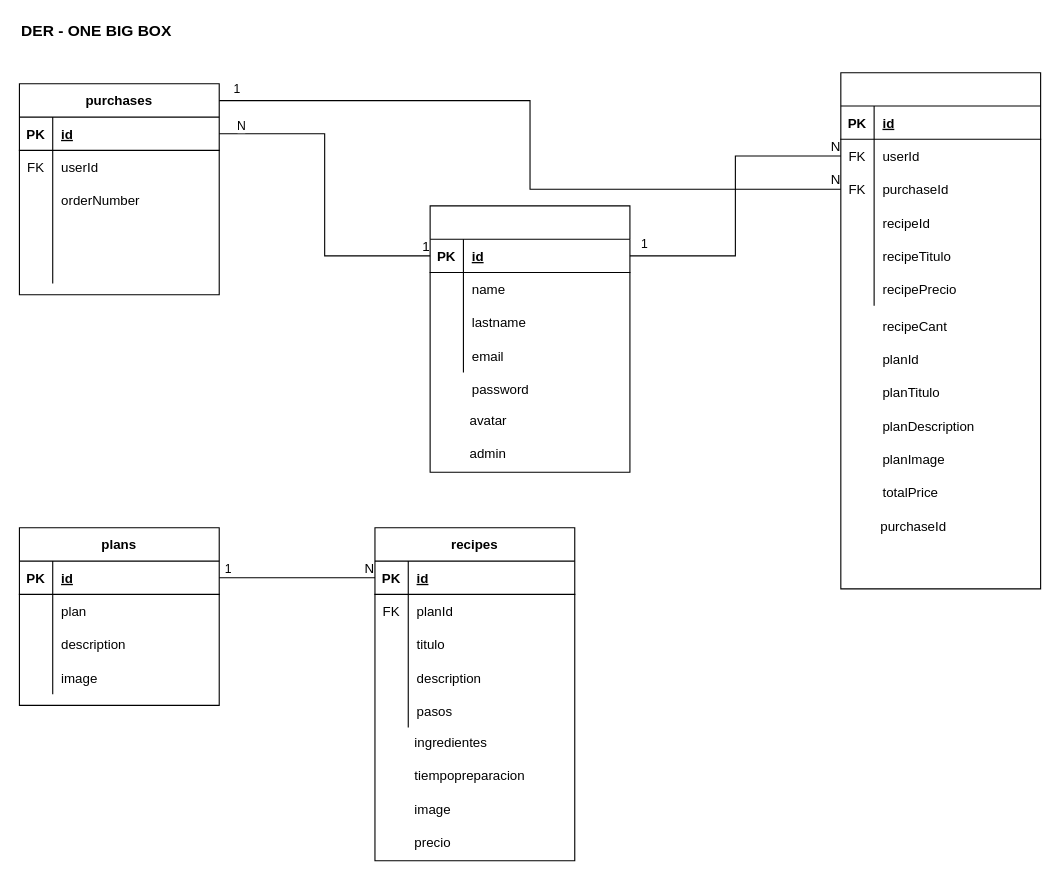
The diagram is 1060 pixels wide and 882 high, and some of its shapes have lost their labels. Here are the shapes that lost their labels. From the top down, the box of each, then its label:
(429, 205, 630, 472): users
(840, 72, 1041, 589): items
